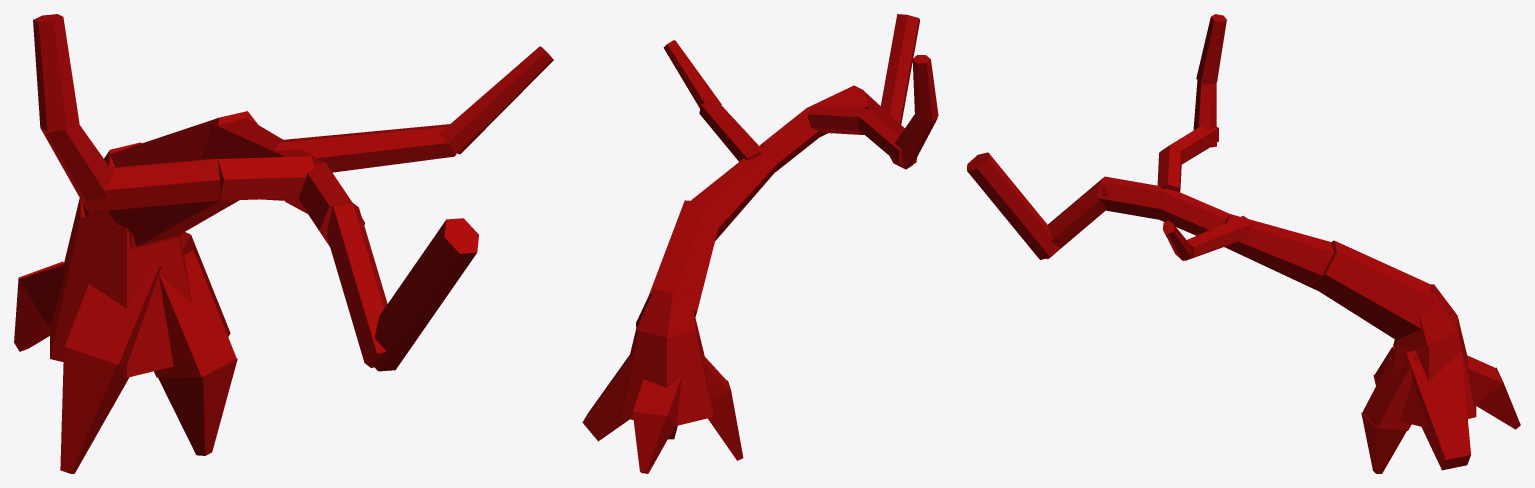
Rendered from SM_Env_Tree_Pohutukawa_04_Collision.glb.
3 renders of one model, left to right at view 1: azimuth 30°, elevation 25°; view 2: azimuth 150°, elevation 25°; view 3: azimuth 270°, elevation 25°, orthographic. The views are drawn at different scales.
Visible parts, largest first — view 1: SM_Env_Tree_Pohutukawa_04_Collision; view 2: SM_Env_Tree_Pohutukawa_04_Collision; view 3: SM_Env_Tree_Pohutukawa_04_Collision.
Boxes of the visible parts, x1,y1,x2,y2 form: SM_Env_Tree_Pohutukawa_04_Collision: (14,14,553,473); SM_Env_Tree_Pohutukawa_04_Collision: (582,14,938,473); SM_Env_Tree_Pohutukawa_04_Collision: (967,14,1520,473).
Bounding box in the file's own units: 1.89 × 2.28 × 3.09.
